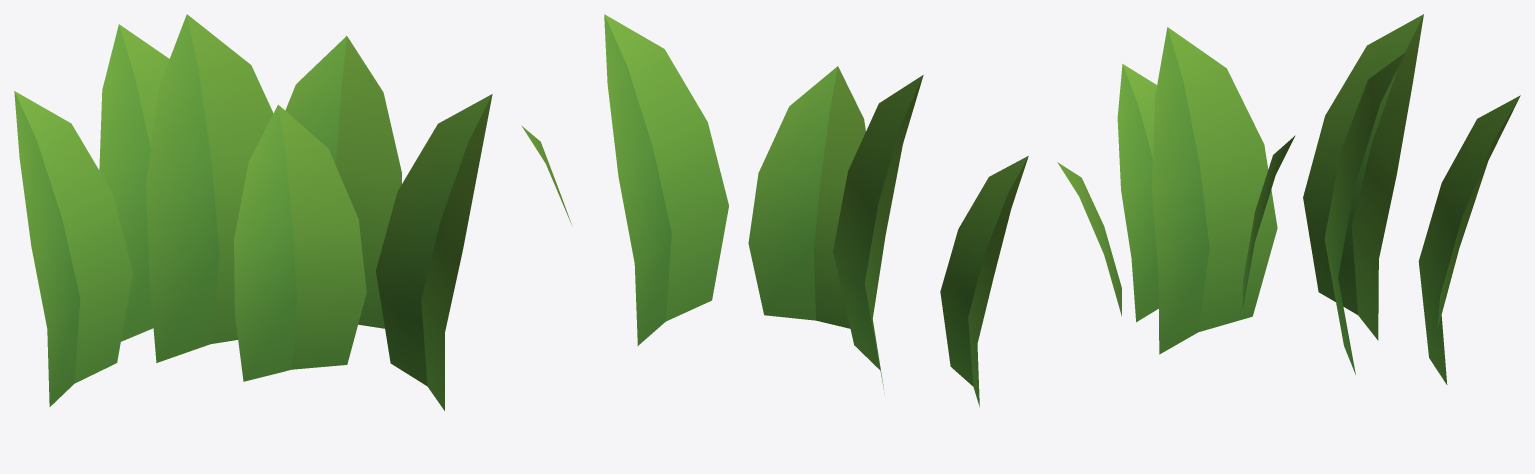
File: Grass_1_C_Color1.glb
3 views of the same model, side by side, from view 1: azimuth 30°, elevation 25°; view 2: azimuth 150°, elevation 25°; view 3: azimuth 270°, elevation 25° (orthographic). The views are drawn at different scales.
Visible parts, largest first — view 1: Grass_1_C_Singlesided_Color1; view 2: Grass_1_C_Singlesided_Color1; view 3: Grass_1_C_Singlesided_Color1.
Part boxes in pixels (x1,y1,x2,y2): Grass_1_C_Singlesided_Color1: (14, 14, 492, 410); Grass_1_C_Singlesided_Color1: (521, 14, 1028, 407); Grass_1_C_Singlesided_Color1: (1057, 14, 1520, 384).
Bounding box in the file's own units: 0.7342 × 0.5803 × 0.725.
Materials: 1 (1 with a texture image).
